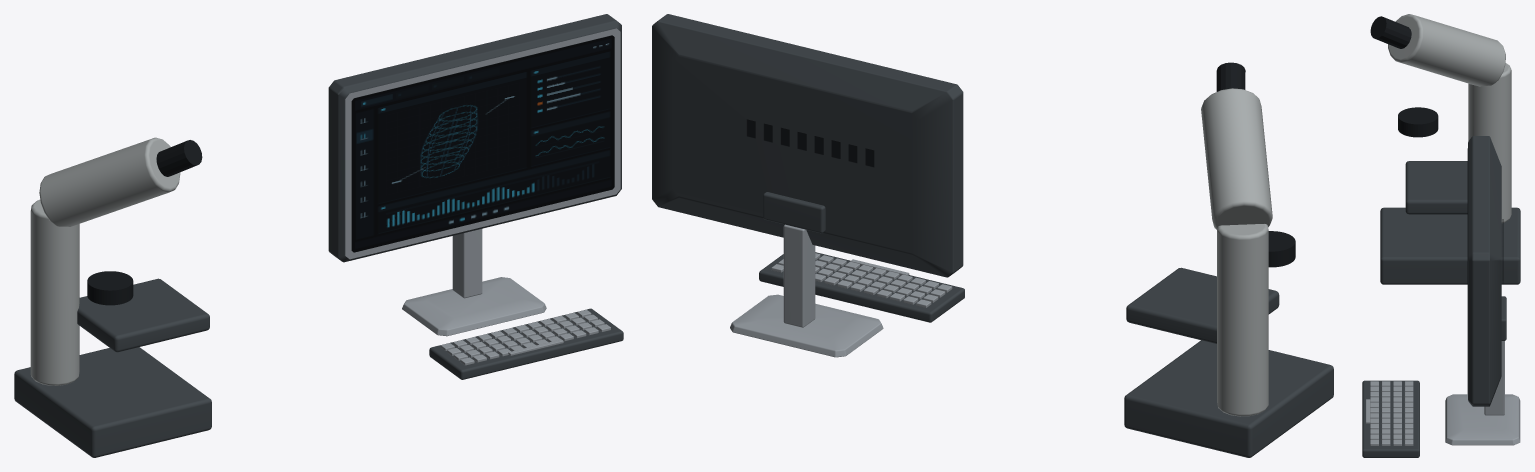
Rendered from ZH_ENV_LEFT_ANALYSIS_WORKSTATION.fbx.
The picture shows the model from 3 angles, left to right: view 1: azimuth 30°, elevation 25°; view 2: azimuth 150°, elevation 25°; view 3: azimuth 270°, elevation 25°; orthographic projection. The views are drawn at different scales.
Visible parts, largest first — view 1: Terminal | specimen LCD.001, Microscope | heavy foot.001, Terminal | specimen tapered back.001, Microscope | upright.001, Microscope | optical head.001, Microscope | specimen stage.001, Terminal | specimen anodized bezel.001, Terminal | weighted desk foot.001, Terminal | compact keyboard.001, Terminal | articulated support.001, Microscope | focus wheel.001, Microscope | eyepiece.001; view 2: Terminal | specimen tapered back.001, Microscope | heavy foot.001, Microscope | upright.001, Microscope | optical head.001, Terminal | weighted desk foot.001, Microscope | specimen stage.001, Terminal | compact keyboard.001, Terminal | articulated support.001, Terminal | hinge housing.001, Microscope | focus wheel.001, Microscope | eyepiece.001; view 3: Terminal | specimen tapered back.001, Microscope | heavy foot.001, Microscope | optical head.001, Microscope | upright.001, Microscope | specimen stage.001, Terminal | weighted desk foot.001, Terminal | compact keyboard.001, Microscope | focus wheel.001, Microscope | eyepiece.001, Terminal | articulated support.001, Terminal | hinge housing.001, Terminal | specimen LCD.001.
Boxes of the visible parts, bbox=[...] form: Terminal | specimen LCD.001: bbox=[351, 35, 614, 252]; Microscope | heavy foot.001: bbox=[14, 347, 211, 457]; Terminal | specimen tapered back.001: bbox=[328, 14, 621, 262]; Microscope | upright.001: bbox=[30, 199, 79, 385]; Microscope | optical head.001: bbox=[39, 137, 180, 226]; Microscope | specimen stage.001: bbox=[77, 278, 209, 352]; Terminal | specimen anodized bezel.001: bbox=[345, 28, 620, 259]; Terminal | weighted desk foot.001: bbox=[402, 277, 546, 336]; Terminal | compact keyboard.001: bbox=[429, 308, 623, 379]; Terminal | articulated support.001: bbox=[452, 229, 482, 298]; Microscope | focus wheel.001: bbox=[87, 271, 133, 305]; Microscope | eyepiece.001: bbox=[156, 140, 202, 176]; Terminal | specimen tapered back.001: bbox=[652, 14, 963, 277]; Microscope | heavy foot.001: bbox=[1124, 340, 1333, 457]; Microscope | upright.001: bbox=[1217, 224, 1268, 416]; Microscope | optical head.001: bbox=[1201, 88, 1272, 229]; Terminal | weighted desk foot.001: bbox=[730, 294, 883, 357]; Microscope | specimen stage.001: bbox=[1126, 267, 1279, 343]; Terminal | compact keyboard.001: bbox=[759, 252, 964, 322]; Terminal | articulated support.001: bbox=[783, 224, 815, 327]; Terminal | hinge housing.001: bbox=[763, 192, 825, 233]; Microscope | focus wheel.001: bbox=[1268, 231, 1295, 267]; Microscope | eyepiece.001: bbox=[1216, 62, 1245, 91]; Terminal | specimen tapered back.001: bbox=[1468, 136, 1501, 406]; Microscope | heavy foot.001: bbox=[1380, 207, 1520, 284]; Microscope | optical head.001: bbox=[1388, 14, 1505, 86]; Microscope | upright.001: bbox=[1468, 63, 1511, 223]; Microscope | specimen stage.001: bbox=[1405, 161, 1467, 214]; Terminal | weighted desk foot.001: bbox=[1445, 394, 1520, 445]; Terminal | compact keyboard.001: bbox=[1362, 380, 1419, 457]; Microscope | focus wheel.001: bbox=[1398, 107, 1438, 137]; Microscope | eyepiece.001: bbox=[1370, 16, 1411, 48]; Terminal | articulated support.001: bbox=[1484, 341, 1504, 415]; Terminal | hinge housing.001: bbox=[1501, 296, 1506, 340]; Terminal | specimen LCD.001: bbox=[1467, 148, 1467, 393].
Bounding box in the file's own units: 1.64 × 0.7955 × 0.44.
Materials: 5 (1 with a texture image).
